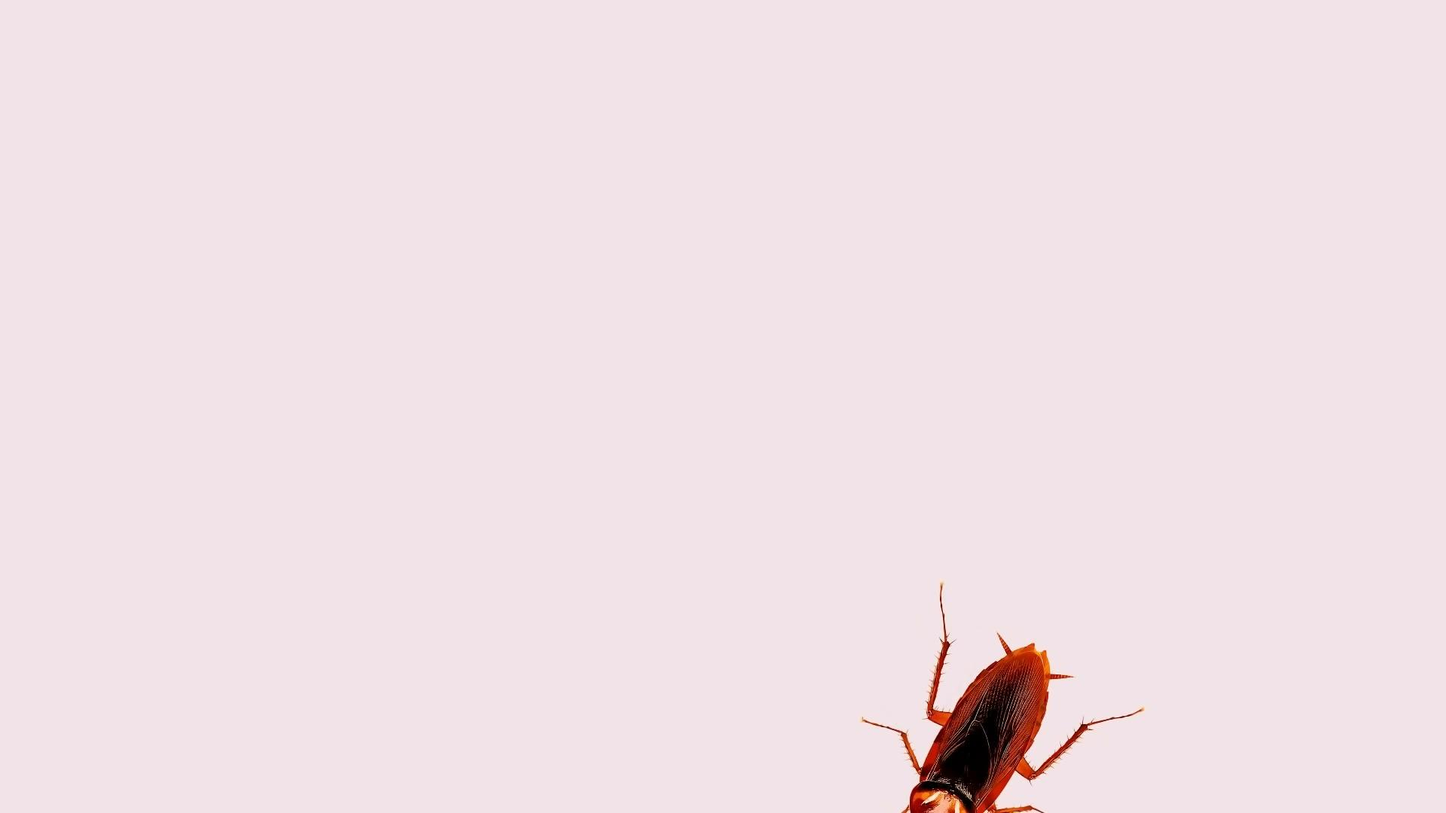cockroach: (857, 572, 1143, 813)
